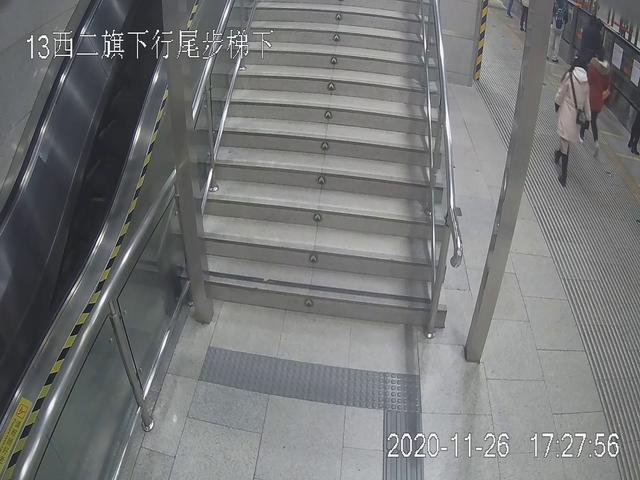person: (553, 63, 591, 184), (579, 45, 610, 152), (544, 1, 567, 59)
